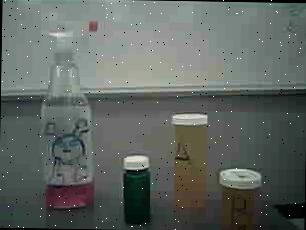Bottle A: (164, 109, 211, 222)
Bottle B: (213, 164, 262, 230)
Bottle C: (119, 151, 155, 226)
hazard: (39, 16, 102, 210)
